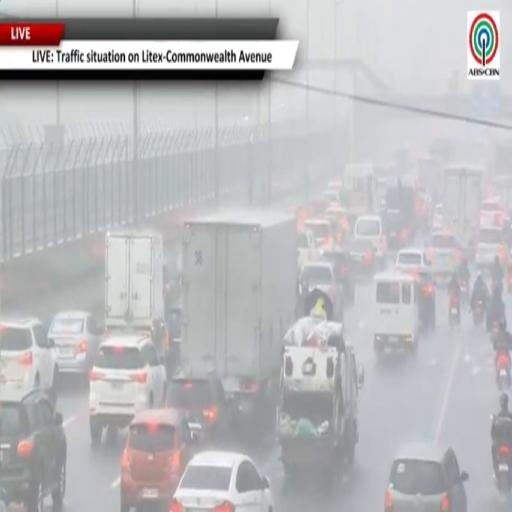car: (89, 332, 166, 445), (0, 389, 67, 511), (120, 409, 197, 511), (171, 452, 273, 511), (385, 442, 468, 511), (0, 318, 58, 397), (168, 373, 229, 441), (372, 272, 419, 359), (48, 311, 103, 376), (301, 261, 344, 321), (402, 267, 435, 331), (426, 231, 464, 283), (323, 248, 355, 305), (354, 216, 387, 266), (475, 228, 508, 269), (416, 267, 435, 330), (165, 304, 182, 374), (349, 238, 377, 279), (325, 205, 350, 245), (304, 219, 334, 248), (297, 231, 320, 268), (395, 248, 429, 269), (480, 199, 504, 228), (325, 205, 349, 232), (306, 199, 329, 219), (432, 203, 444, 230), (323, 190, 339, 203), (0, 488, 7, 511)
motorcycle: (494, 444, 511, 509), (495, 445, 511, 502), (496, 349, 511, 391), (449, 293, 460, 326), (473, 300, 484, 327), (490, 318, 498, 345), (460, 278, 469, 302), (0, 488, 7, 511)
truck: (182, 211, 297, 430), (277, 315, 363, 488), (105, 231, 166, 356), (443, 166, 484, 246), (382, 180, 417, 249), (340, 164, 375, 229), (418, 156, 443, 204)
